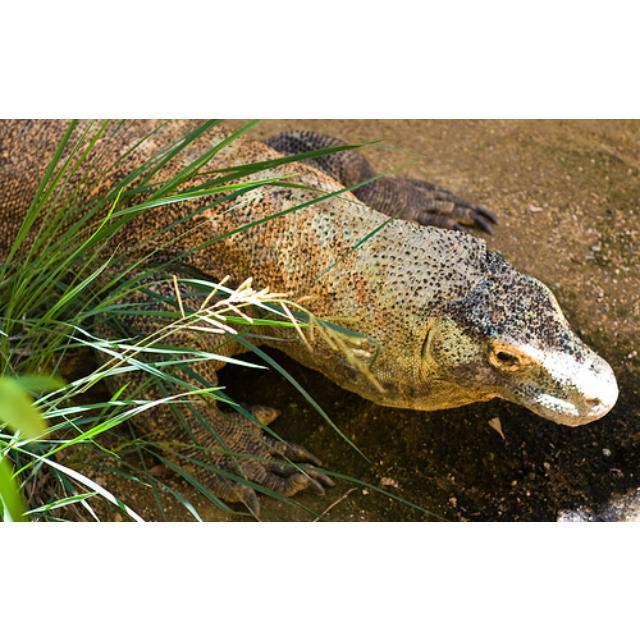KomodoDragon: (1, 139, 619, 519)
